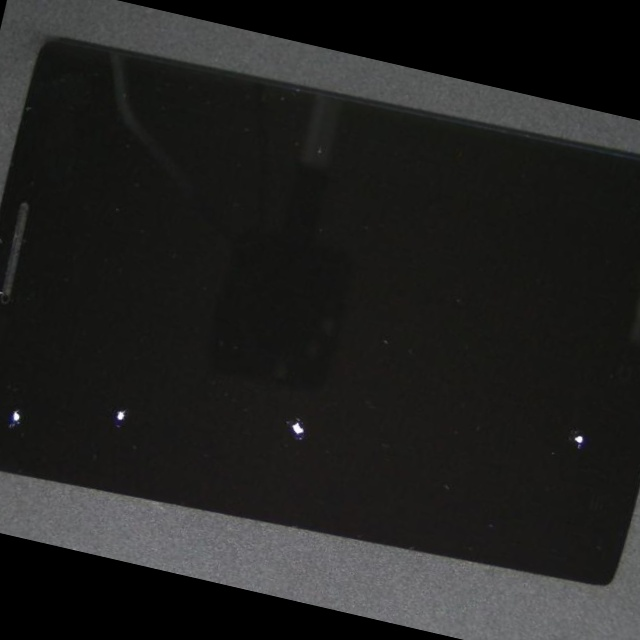stain: (85, 153, 509, 628), (234, 169, 640, 608), (0, 156, 257, 572), (0, 167, 121, 542)
